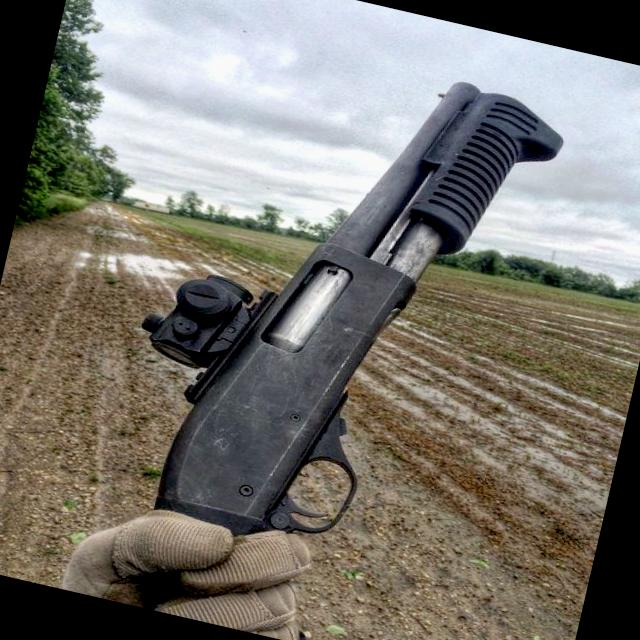shotgun: (66, 6, 621, 640)
